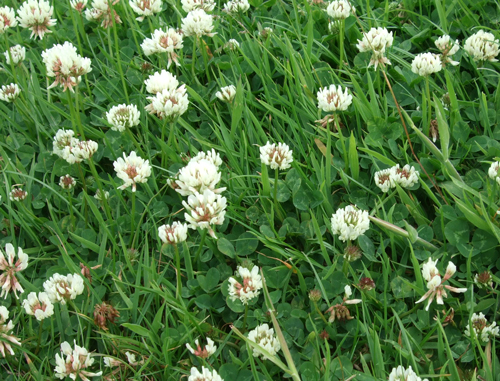clover: (4, 3, 498, 378)
